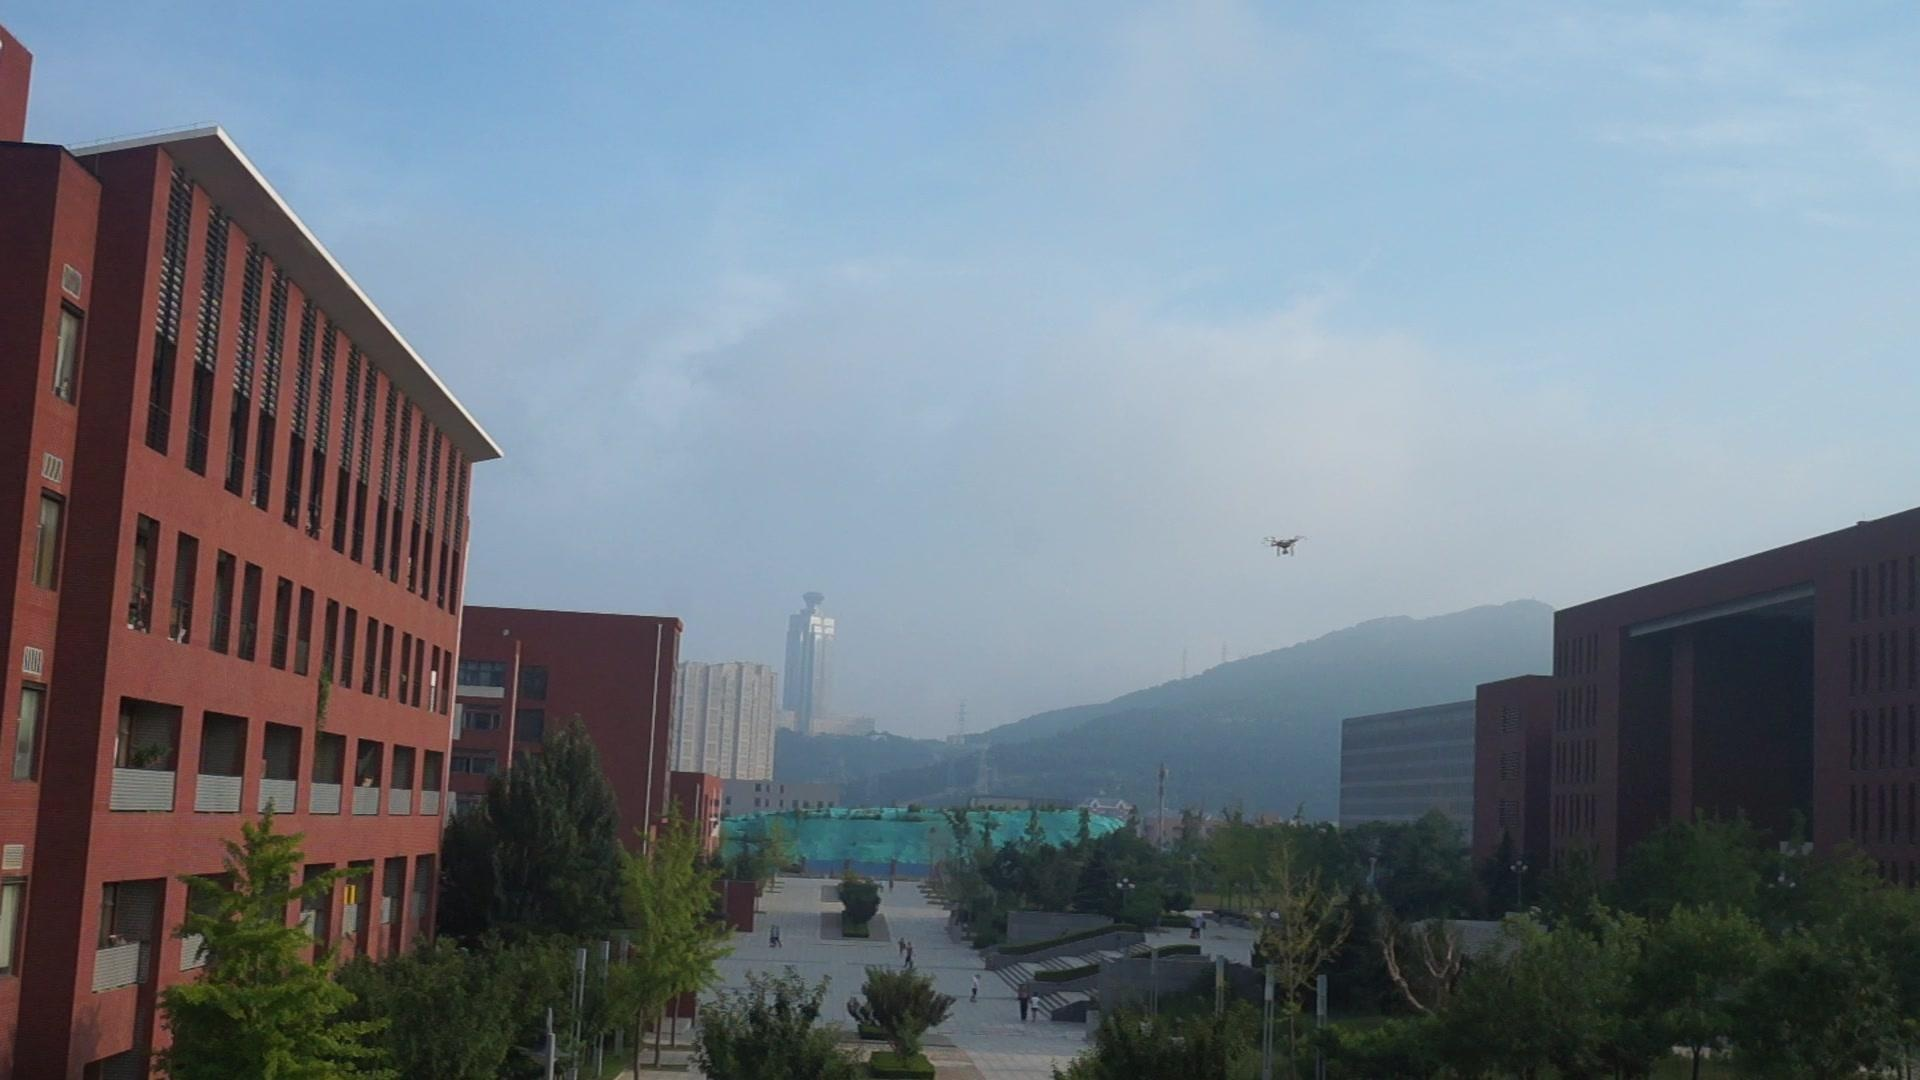UAV: (1261, 535, 1309, 556)
